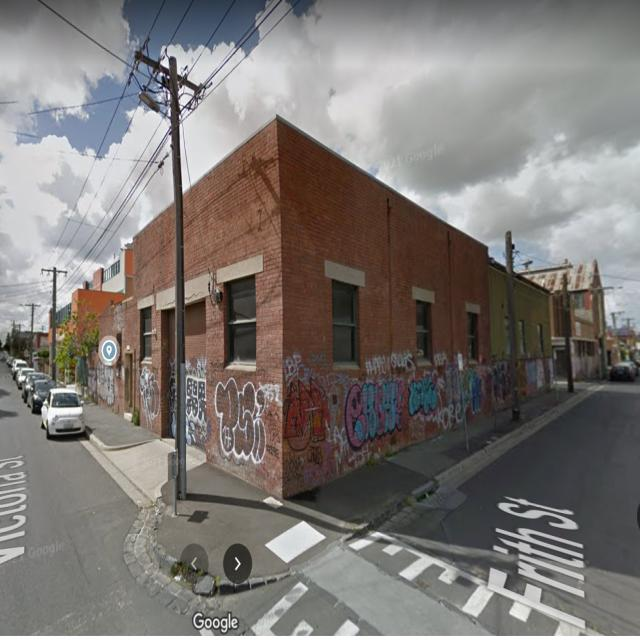crossarm: (133, 48, 201, 94), (41, 267, 68, 275), (23, 302, 41, 308)
streetlight: (138, 92, 172, 119)
timber-pole: (166, 56, 184, 500), (504, 229, 521, 422), (562, 273, 574, 393), (50, 265, 59, 380), (598, 287, 606, 380), (29, 303, 35, 366)
